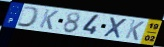4: (82, 14, 100, 37)
8: (61, 11, 83, 34)
D: (15, 5, 41, 28)
K: (38, 8, 60, 31), (124, 19, 146, 42)
X: (102, 16, 129, 40)
